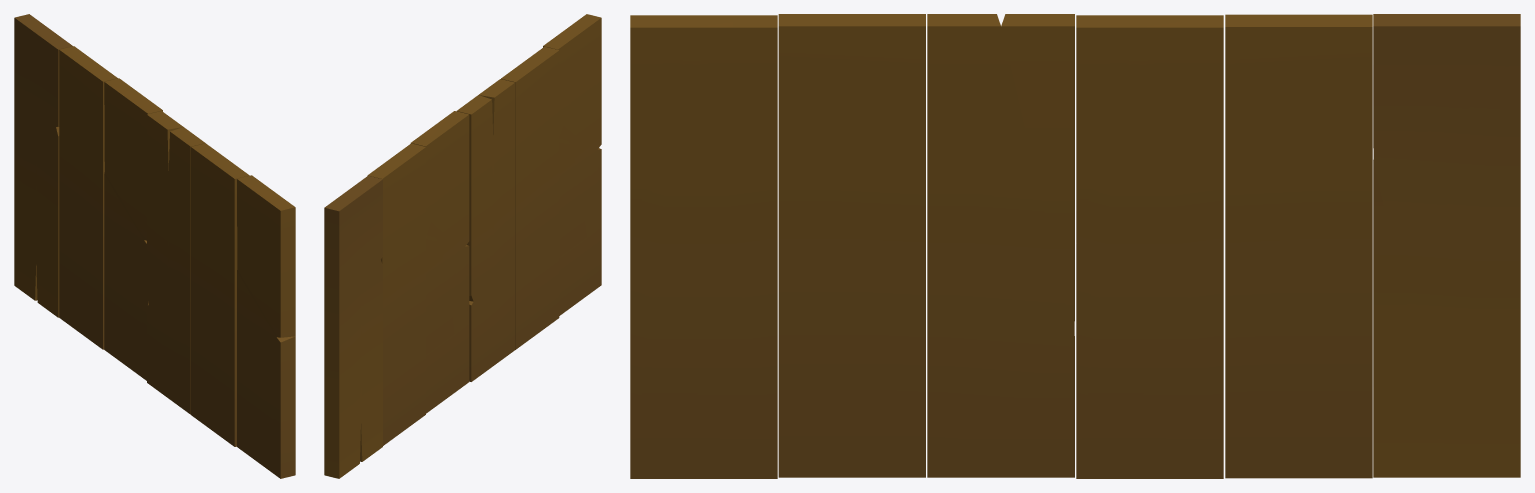
Rendered from ShortWoodenWall.fbx.
The picture shows the model from 3 angles, left to right: view 1: azimuth 30°, elevation 25°; view 2: azimuth 150°, elevation 25°; view 3: azimuth 270°, elevation 25°; orthographic projection. The views are drawn at different scales.
Parts seen in each view (by area): view 1: Door_02.006; view 2: Door_02.006; view 3: Door_02.006.
Part boxes in pixels (bbox=[...]): Door_02.006: bbox=[14, 14, 295, 478]; Door_02.006: bbox=[324, 14, 601, 478]; Door_02.006: bbox=[630, 14, 1520, 478].
Size of the model in its own units: 6.2 by 95.12 by 170.
